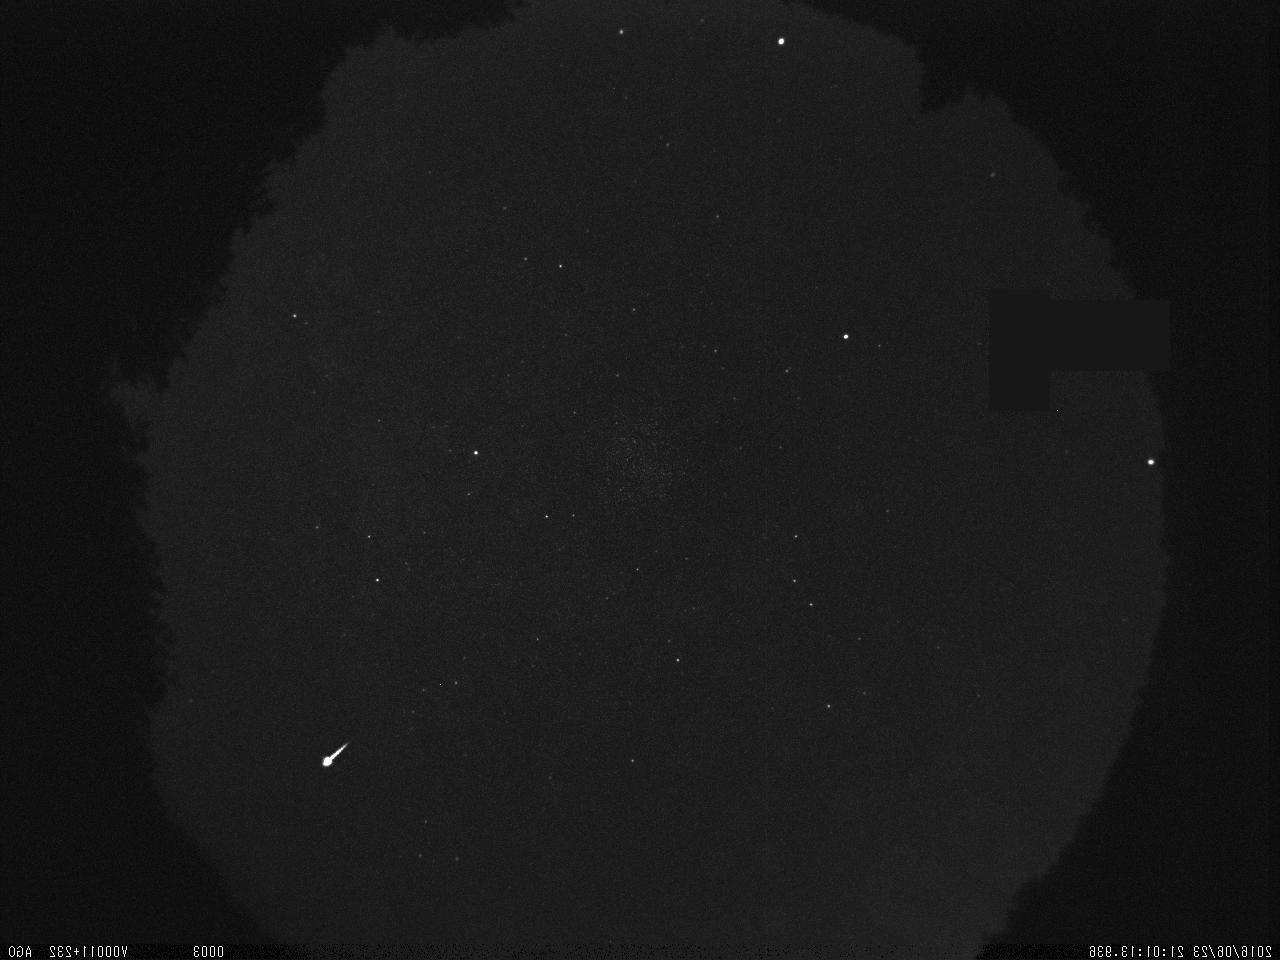meteor: (315, 732, 358, 775)
